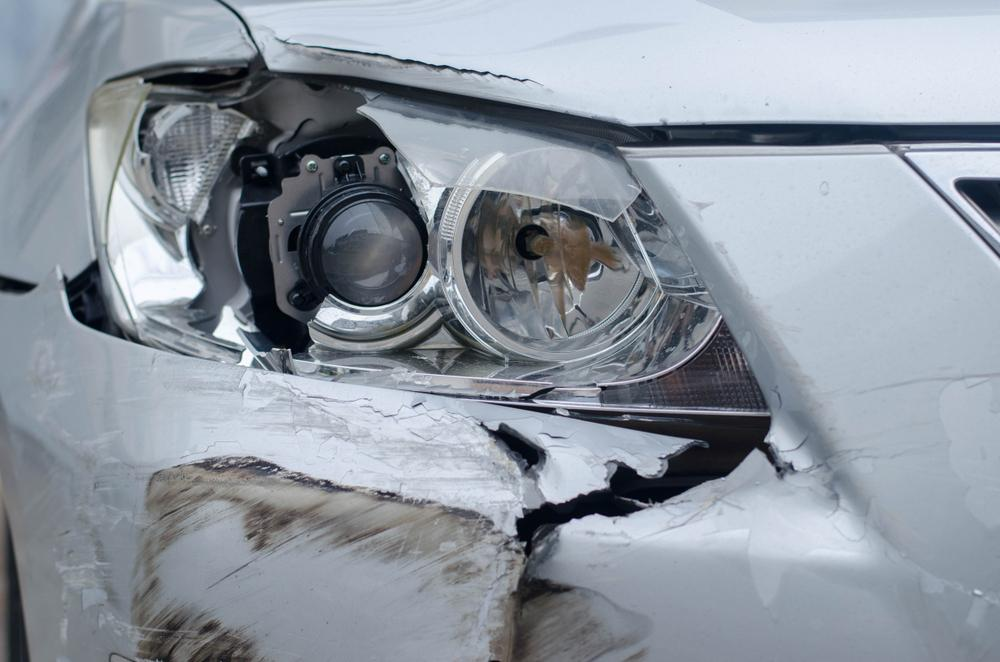crack: (516, 441, 813, 559), (481, 422, 545, 472)
lamp broken: (86, 74, 771, 413)
scratch: (27, 341, 667, 662)
